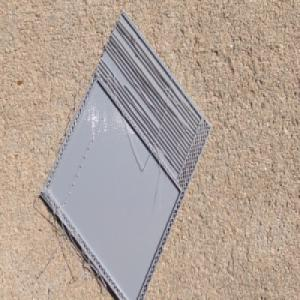PlasticPart: (38, 9, 212, 300)
